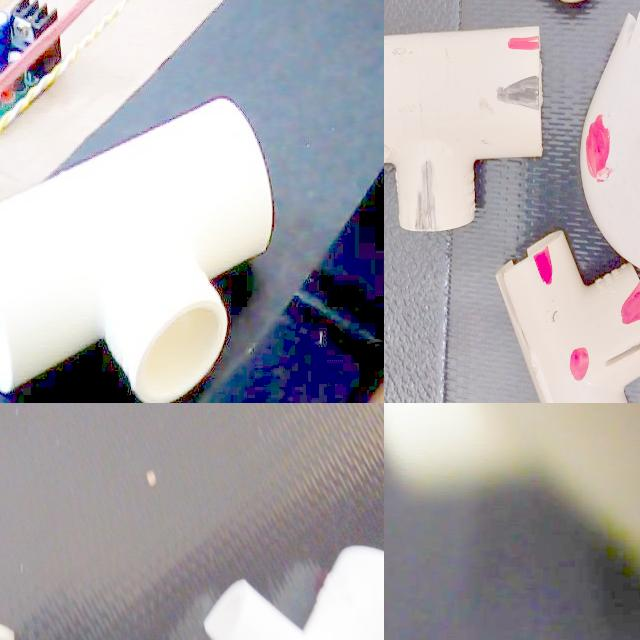Defective: (0, 474, 47, 570), (439, 4, 483, 93), (450, 255, 473, 318), (397, 379, 439, 403), (384, 154, 410, 179), (493, 270, 503, 316)
L Joint: (384, 2, 504, 311), (527, 249, 640, 403)
T Joint: (0, 99, 273, 403)
